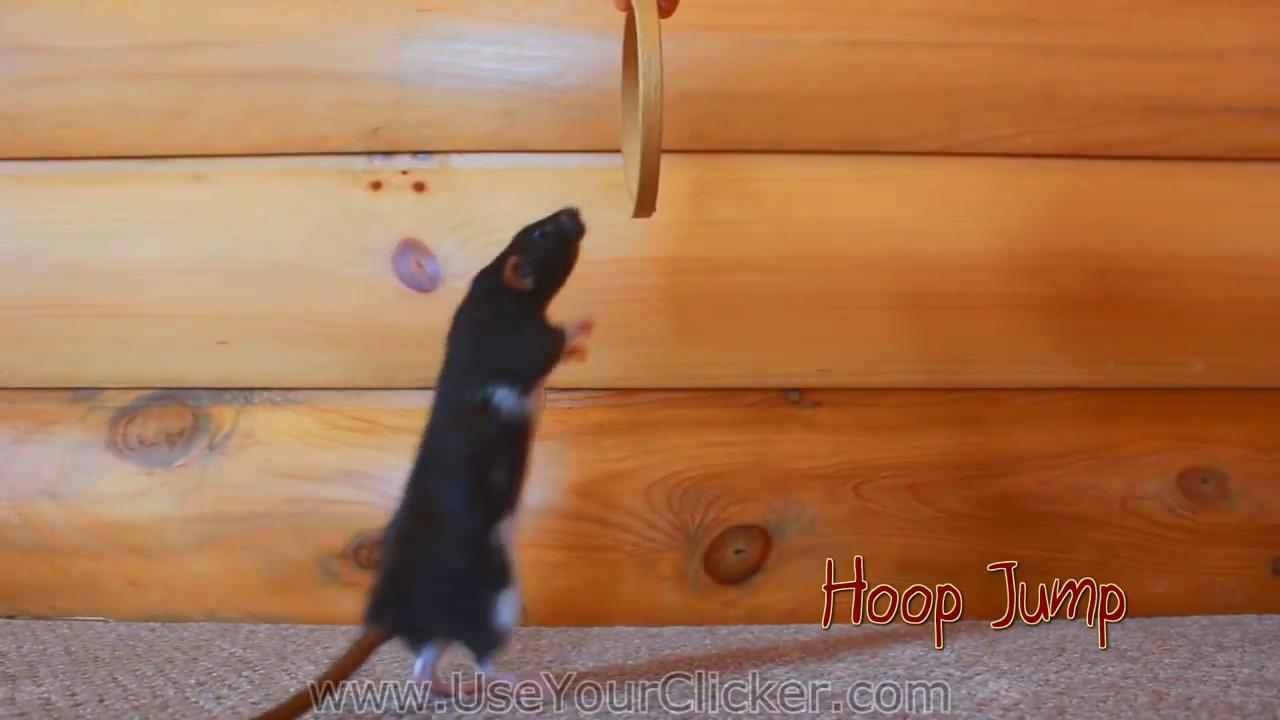rat: (247, 207, 594, 720)
